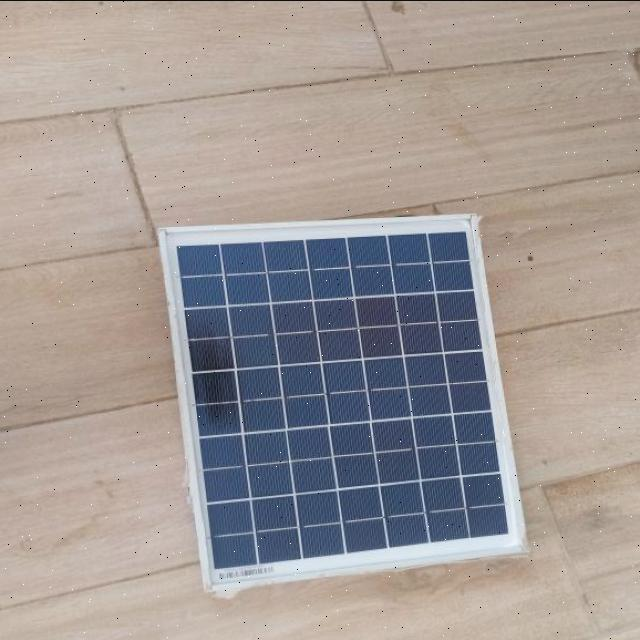Normal Solar Panel: (163, 215, 525, 588)
